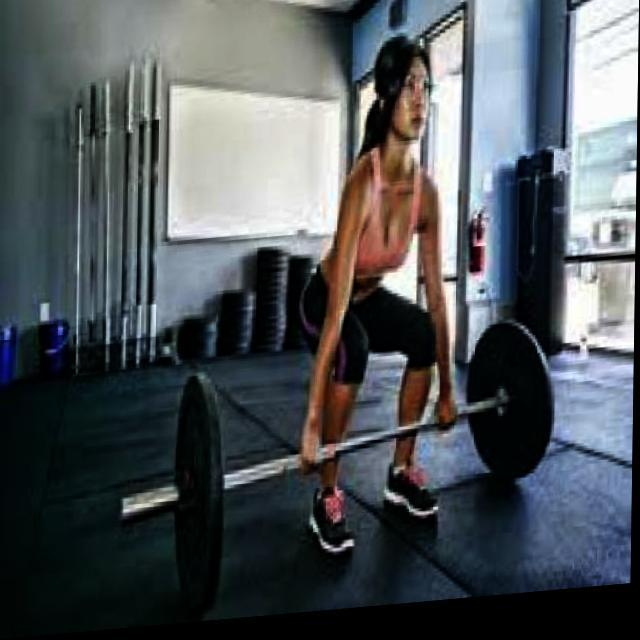barbell: (115, 370, 221, 626)
